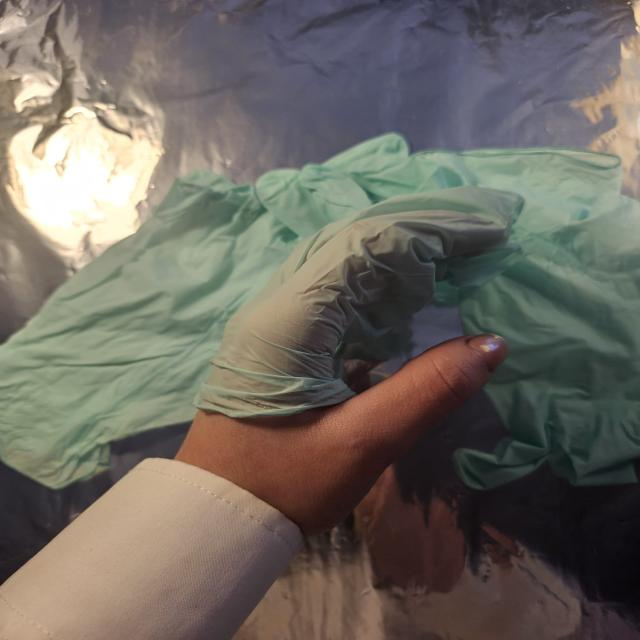glove_partial: (186, 186, 527, 527)
